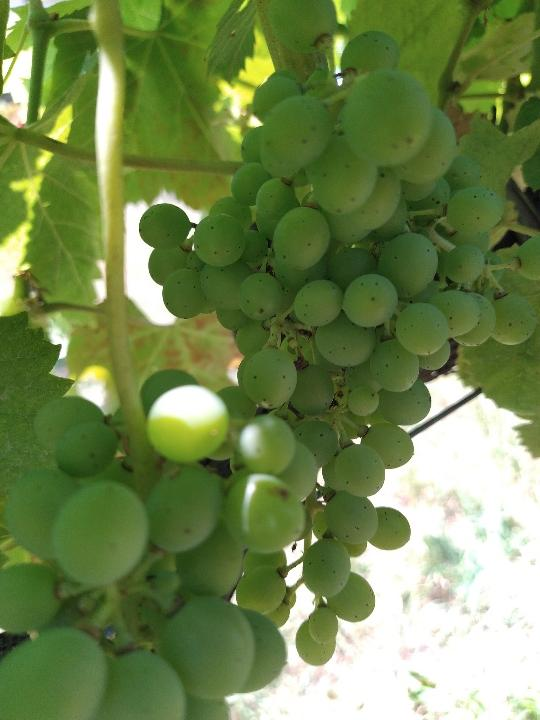grape: (137, 29, 538, 669)
